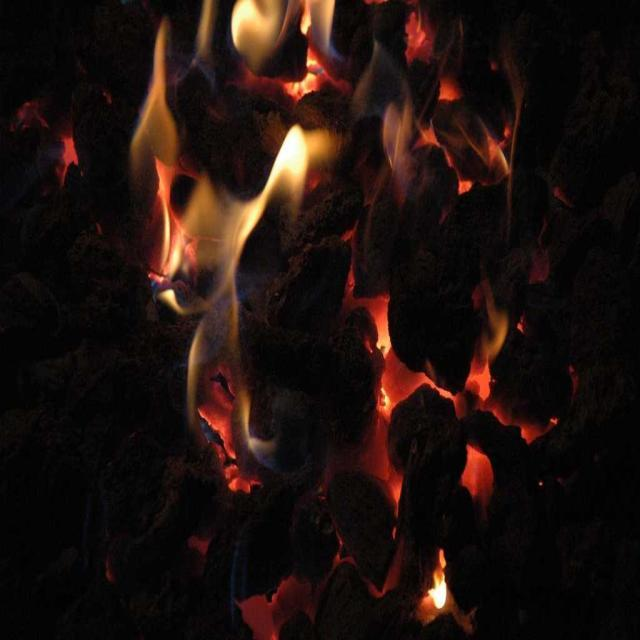Fire: (163, 24, 535, 539)
